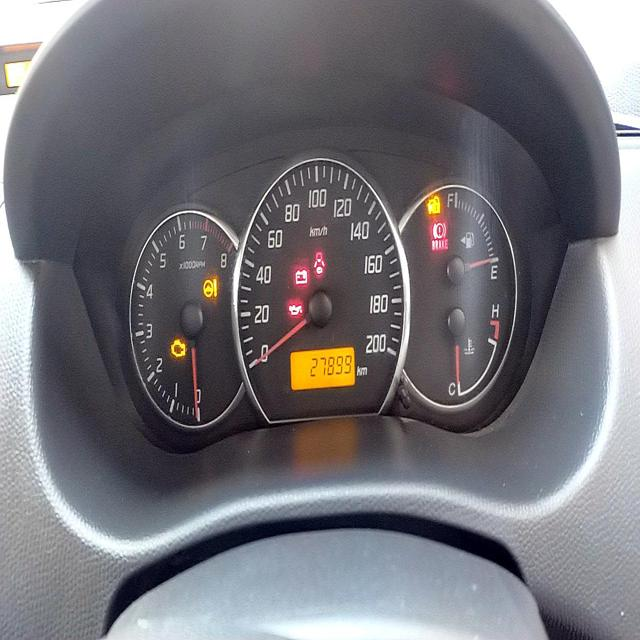odometer: (309, 353, 352, 379)
